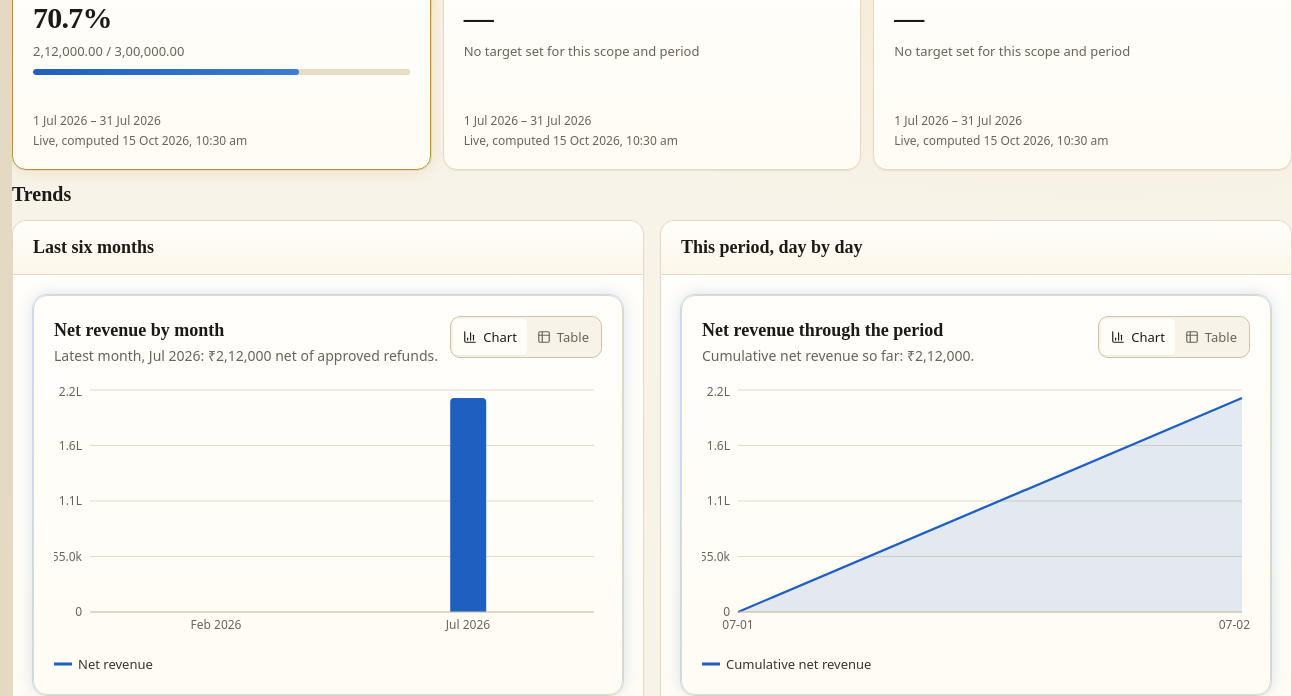
Test: FounderDashboard › chart has a table toggle and a text summary (accessible alternative)
This screenshot has width=1292, height=696.
(page scrolled)
Expected: the text "Latest month, Jul 2026: ₹2,12,000 net of approved refunds." is shown, [54,346,438,366]
Click the button "Table" in the row of "Net revenue by month" at (563, 337), box [527,319,599,355]
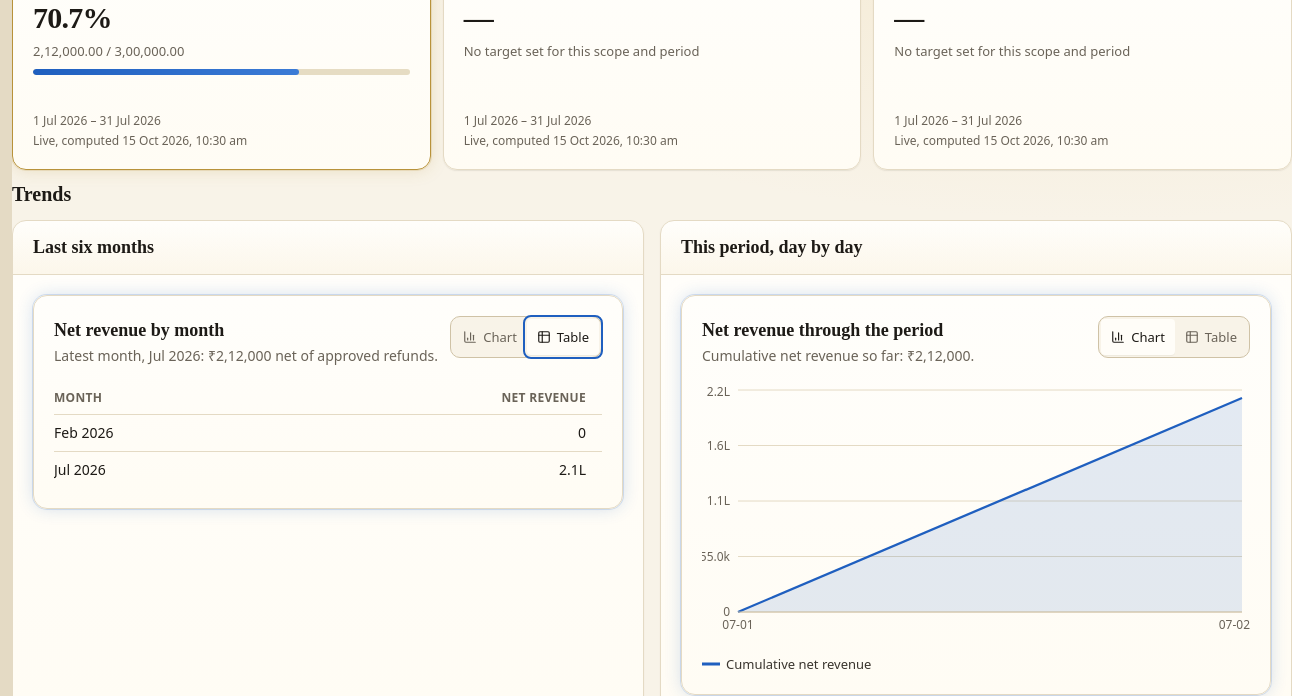
Expected: the table is shown, [54,382,602,488]
